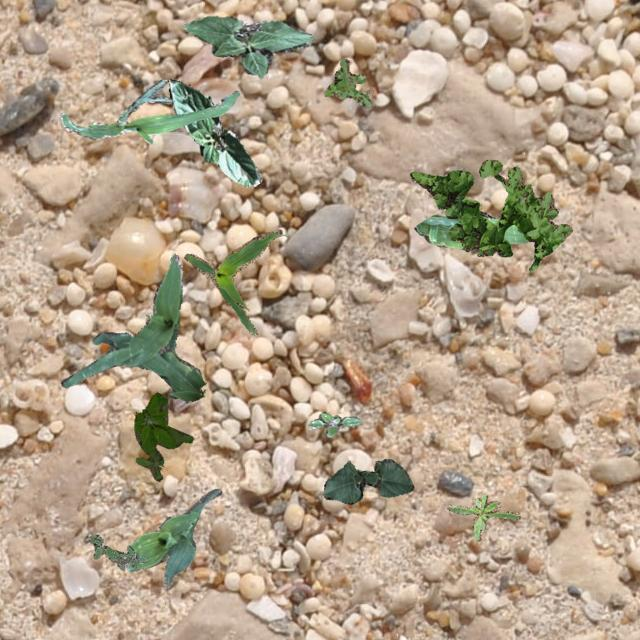crop: (60, 253, 204, 402), (60, 78, 238, 142), (184, 228, 282, 334), (168, 78, 260, 186), (124, 488, 220, 586), (182, 14, 312, 76), (413, 210, 528, 248), (322, 458, 412, 502)
weed: (408, 158, 572, 270), (134, 392, 192, 481), (446, 494, 518, 540), (324, 57, 369, 106), (88, 534, 146, 570), (306, 410, 360, 436)
